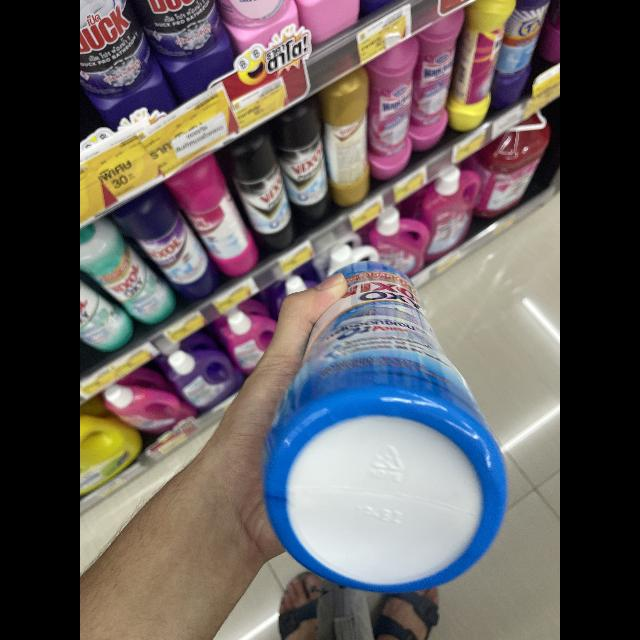chemical_plastic_bottle: (255, 256, 513, 592)
